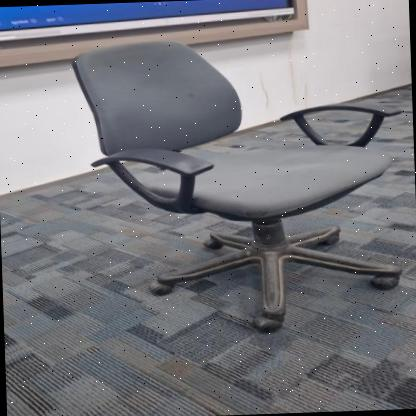chair: (64, 25, 416, 342)
